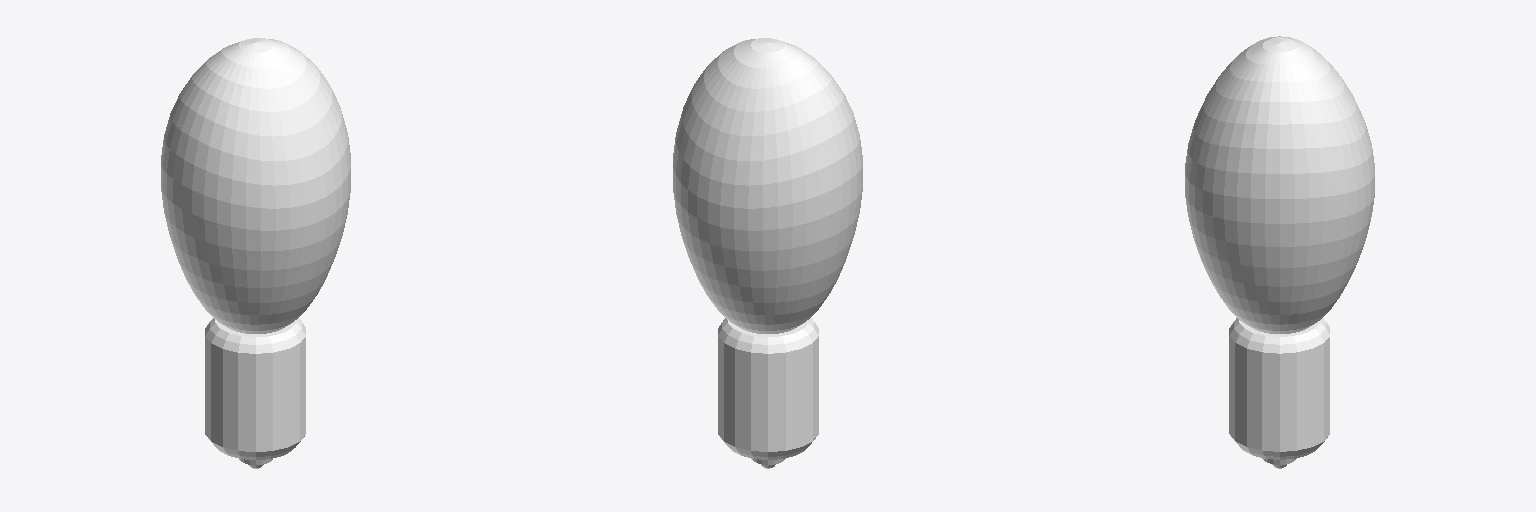
File: lampa.obj
The picture shows the model from 3 angles: view 1: azimuth 30°, elevation 25°; view 2: azimuth 150°, elevation 25°; view 3: azimuth 270°, elevation 25°; orthographic projection.
Visible parts, largest first — view 1: Cylinder001; view 2: Cylinder001; view 3: Cylinder001.
Boxes of the visible parts, <box> form: Cylinder001: <box>161,38,350,468</box>; Cylinder001: <box>673,38,862,468</box>; Cylinder001: <box>1185,36,1374,468</box>.
Bounding box in the file's own units: 15.86 × 39.11 × 15.86.